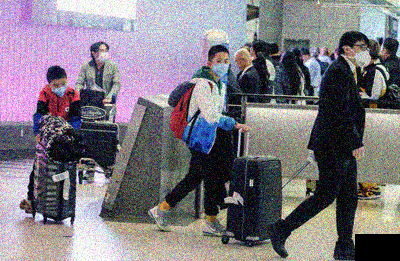with_mask: (350, 43, 372, 67), (213, 57, 230, 77), (49, 80, 67, 97), (96, 47, 110, 62)
